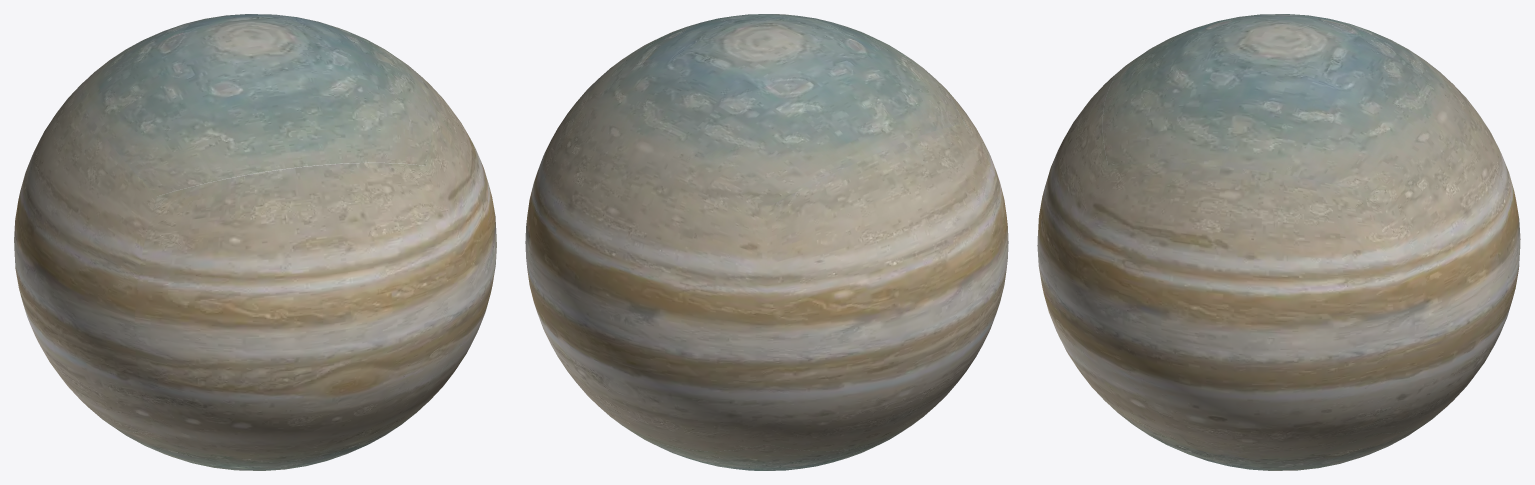
The model's file is Jupiter.glb.
The picture shows the model from 3 angles, left to right: view 1: azimuth 30°, elevation 25°; view 2: azimuth 150°, elevation 25°; view 3: azimuth 270°, elevation 25°; orthographic projection.
Parts seen in each view (by area): view 1: cubemap; view 2: cubemap; view 3: cubemap.
Boxes of the visible parts, x1,y1,x2,y2 form: cubemap: (14,14,496,470); cubemap: (525,14,1008,470); cubemap: (1037,14,1520,470).
Size of the model in its own units: 0.9994 by 0.935 by 0.9994.
1 material, 1 textured.
